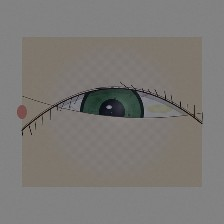pinguecula_lesion: (134, 88, 186, 129)
